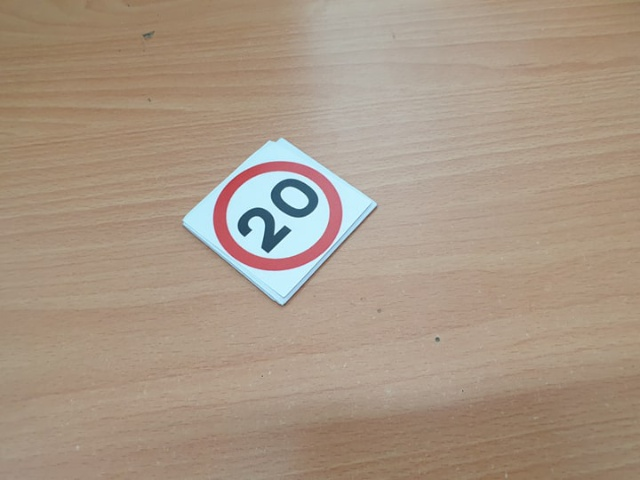Limit 20: (213, 160, 346, 272)
